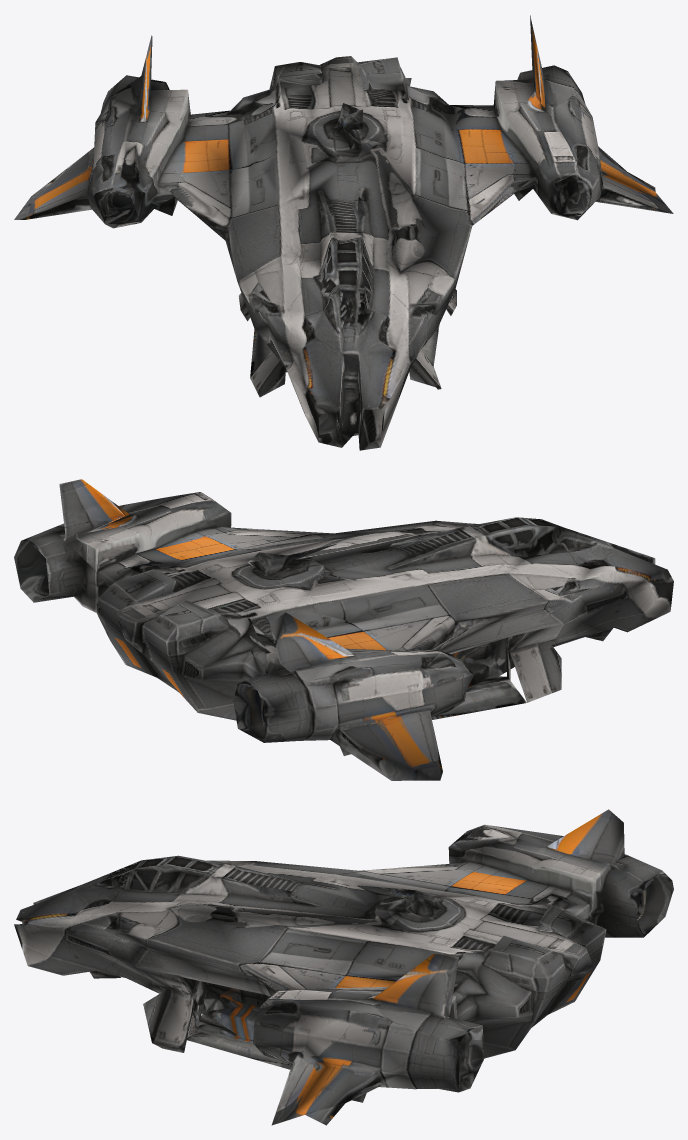
File: tripo-rebaked-1000.glb
3 renders of one model, top to bottom at view 1: azimuth 30°, elevation 25°; view 2: azimuth 150°, elevation 25°; view 3: azimuth 270°, elevation 25°, orthographic.
Parts seen in each view (by area): view 1: Low; view 2: Low; view 3: Low.
Boxes of the visible parts, x1=… form: Low: x1=14, y1=15, x2=673, y2=450; Low: x1=14, y1=479, x2=673, y2=780; Low: x1=14, y1=809, x2=673, y2=1125.
Size of the model in its own units: 0.8773 by 0.3427 by 0.9796.
1 material, 1 textured.
